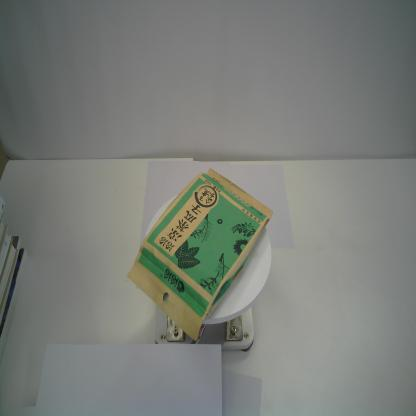Dried Food: (127, 167, 273, 341)
